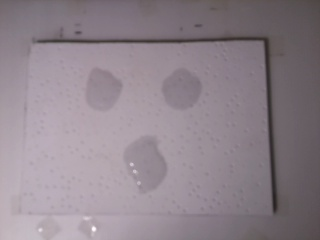Water_detected: (127, 145, 167, 190), (80, 73, 116, 113), (164, 76, 198, 113)
